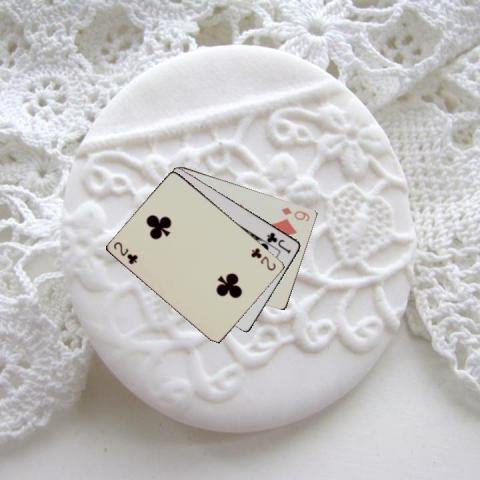2c: (248, 245, 277, 272), (111, 239, 139, 266)
6d: (279, 204, 311, 223)
Jc: (264, 229, 293, 255)
